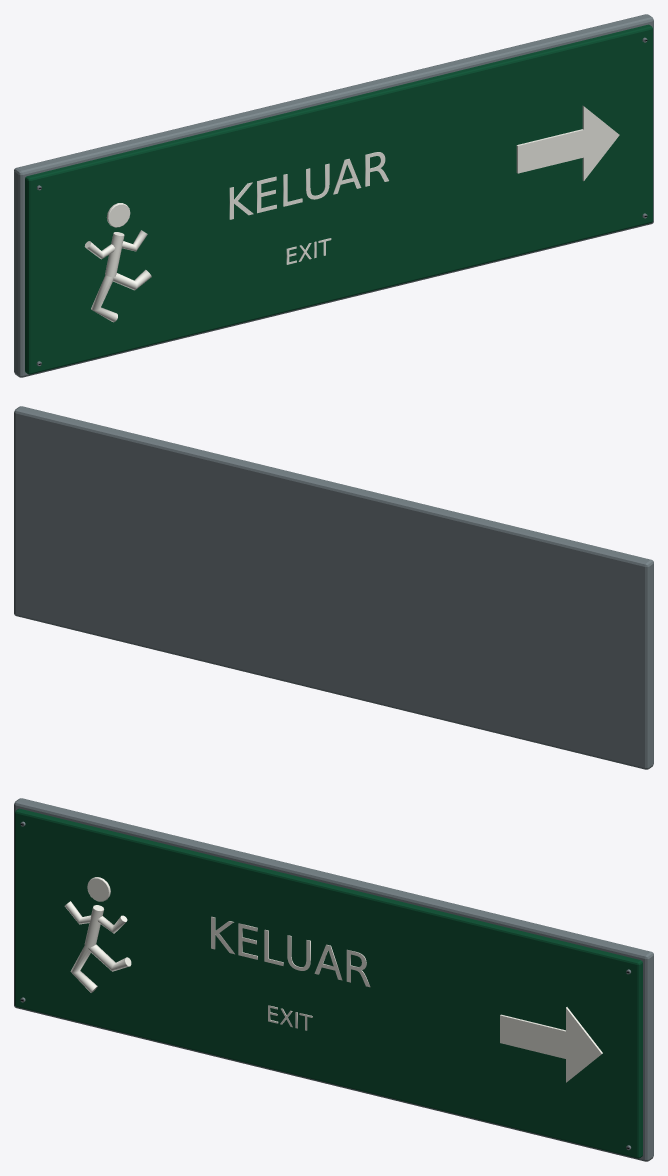
Rendered from OAA_Papan_Keluar_Kanan.fbx.
The picture shows the model from 3 angles, top to bottom: view 1: azimuth 30°, elevation 25°; view 2: azimuth 150°, elevation 25°; view 3: azimuth 330°, elevation 25°; orthographic projection.
Parts seen in each view (by area): view 1: Body; view 2: Body; view 3: Body.
Boxes of the visible parts, box(x1,y1,x2,y2) form: Body: box(14, 14, 653, 377); Body: box(14, 406, 653, 769); Body: box(14, 798, 653, 1161).
Bounding box in the file's own units: 0.9 × 0.28 × 0.041.
